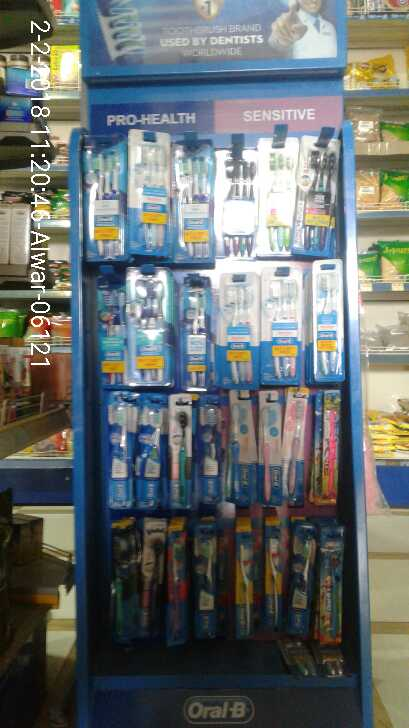oralb: (126, 131, 176, 259), (125, 265, 175, 386), (79, 140, 125, 262), (170, 140, 215, 260), (211, 145, 258, 258), (219, 273, 263, 385), (260, 269, 302, 383), (298, 133, 336, 258), (254, 142, 296, 252), (309, 261, 348, 379), (181, 278, 215, 388), (106, 390, 134, 512), (281, 390, 308, 503), (196, 398, 225, 500), (168, 395, 194, 507), (257, 393, 282, 503), (320, 533, 342, 645), (232, 530, 254, 641), (135, 399, 157, 505), (196, 525, 217, 636), (320, 391, 340, 500), (226, 399, 246, 503), (264, 523, 283, 627), (293, 526, 308, 644)
